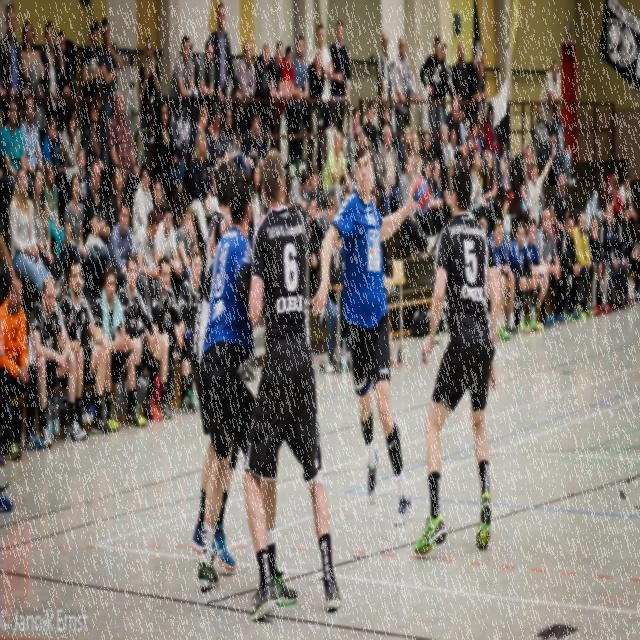pessoa: (242, 146, 342, 623), (196, 167, 298, 608), (310, 137, 423, 529), (413, 160, 503, 558), (188, 160, 242, 573), (24, 274, 87, 449), (87, 262, 148, 432), (58, 257, 110, 438), (7, 165, 67, 310), (146, 256, 198, 420), (116, 253, 164, 423), (0, 270, 43, 452), (0, 218, 21, 524), (31, 166, 71, 294), (61, 174, 98, 308), (176, 248, 203, 413), (506, 220, 544, 334), (420, 34, 454, 161), (106, 89, 141, 212), (98, 17, 124, 172), (488, 218, 520, 336), (536, 208, 567, 328), (107, 197, 143, 300), (208, 3, 242, 109), (0, 96, 34, 202), (190, 128, 220, 248), (349, 138, 386, 234), (153, 98, 180, 227), (522, 139, 558, 235), (312, 23, 334, 178), (599, 200, 630, 310), (19, 18, 48, 132), (392, 35, 422, 143), (288, 35, 310, 182), (264, 41, 292, 156), (522, 218, 550, 332), (302, 51, 326, 180), (133, 209, 161, 316), (139, 34, 161, 170), (0, 1, 23, 130), (555, 214, 582, 322), (83, 159, 111, 262), (302, 192, 326, 312), (38, 21, 62, 140), (586, 214, 614, 316), (81, 20, 106, 134), (320, 236, 342, 365), (19, 93, 45, 201), (376, 124, 402, 232), (329, 20, 352, 136), (572, 209, 596, 320), (450, 41, 488, 111), (188, 161, 216, 256), (322, 131, 354, 214), (152, 202, 184, 282), (43, 159, 67, 265), (253, 43, 274, 162), (230, 40, 256, 133), (617, 203, 640, 305), (551, 98, 577, 188), (484, 104, 511, 190), (375, 31, 399, 125), (220, 104, 252, 174), (472, 101, 498, 183), (60, 102, 86, 183), (187, 104, 221, 165), (268, 46, 296, 119), (414, 158, 440, 236), (106, 164, 131, 245), (534, 103, 558, 186), (168, 34, 199, 98), (614, 172, 638, 253), (474, 218, 494, 314), (520, 145, 546, 215), (83, 99, 107, 174), (175, 206, 199, 280), (468, 150, 489, 234), (538, 59, 562, 130), (206, 103, 232, 167), (132, 164, 154, 239), (429, 158, 449, 235), (54, 30, 76, 99), (193, 38, 216, 104), (54, 144, 71, 232), (584, 171, 607, 236), (550, 172, 571, 234), (243, 109, 264, 170), (346, 107, 364, 175), (398, 153, 416, 219), (73, 146, 92, 207), (459, 98, 481, 150), (362, 102, 380, 164), (490, 182, 510, 234), (250, 162, 265, 230), (288, 168, 310, 214), (41, 116, 60, 169), (468, 59, 485, 114), (441, 158, 455, 224), (378, 102, 397, 150), (606, 168, 624, 218), (446, 99, 464, 148), (440, 43, 456, 96), (600, 178, 618, 225), (397, 122, 413, 174), (482, 150, 498, 200), (438, 124, 450, 190), (499, 144, 512, 203), (306, 165, 322, 212), (411, 130, 424, 176), (152, 179, 164, 223), (447, 125, 459, 162), (419, 130, 432, 162), (522, 208, 532, 235)
